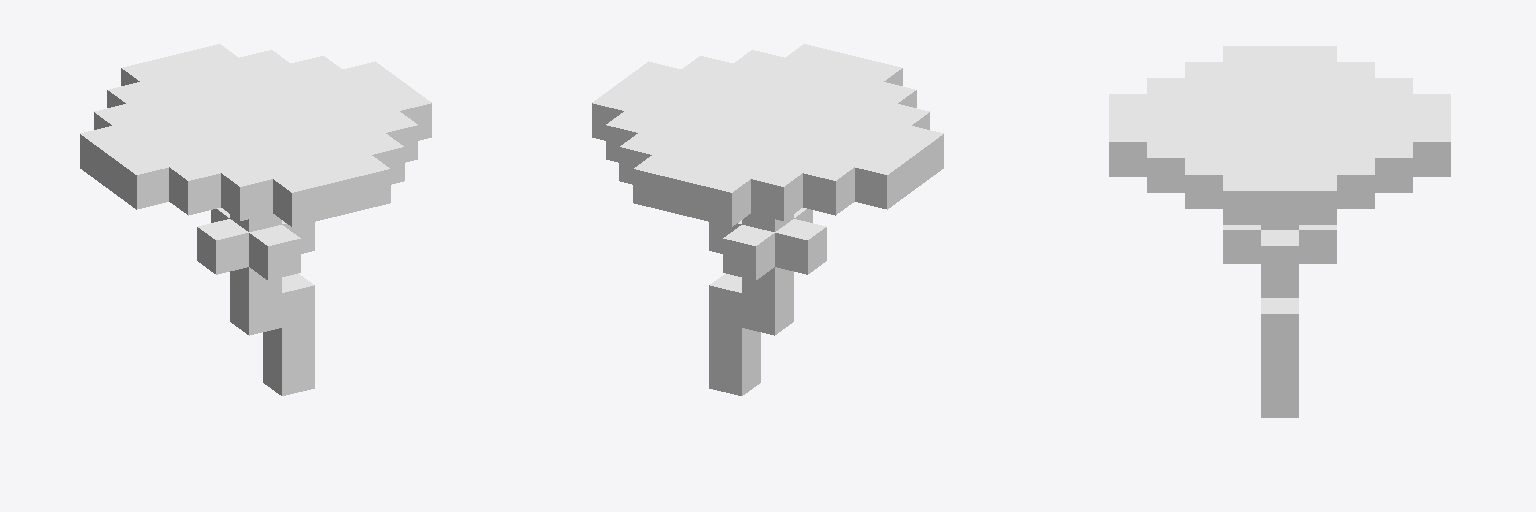
File: Mushroom4_L.obj
3 views of the same model, side by side, from view 1: azimuth 30°, elevation 25°; view 2: azimuth 150°, elevation 25°; view 3: azimuth 270°, elevation 25° (orthographic).
Visible parts, largest first — view 1: Mushroom4_L; view 2: Mushroom4_L; view 3: Mushroom4_L.
Part boxes in pixels (x1,y1,x2,y2): Mushroom4_L: (80,44,431,395); Mushroom4_L: (592,44,943,395); Mushroom4_L: (1109,46,1450,417).
Bounding box in the file's own units: 0.9 × 0.8 × 0.9.